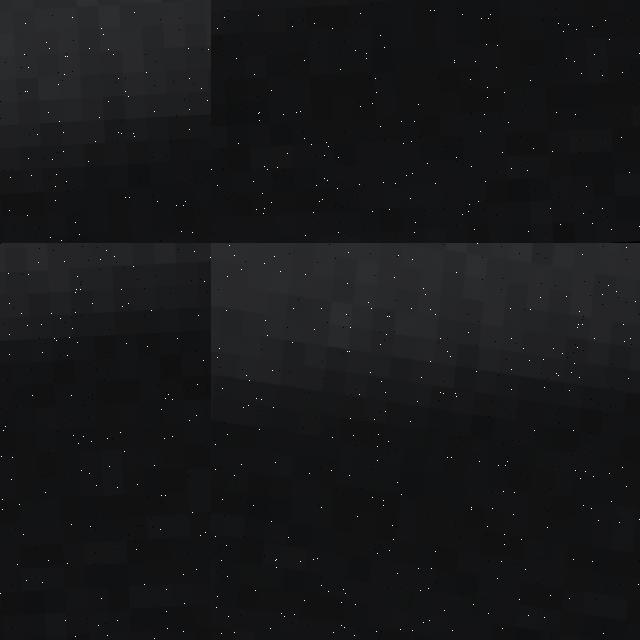drone: (211, 243, 640, 640)
